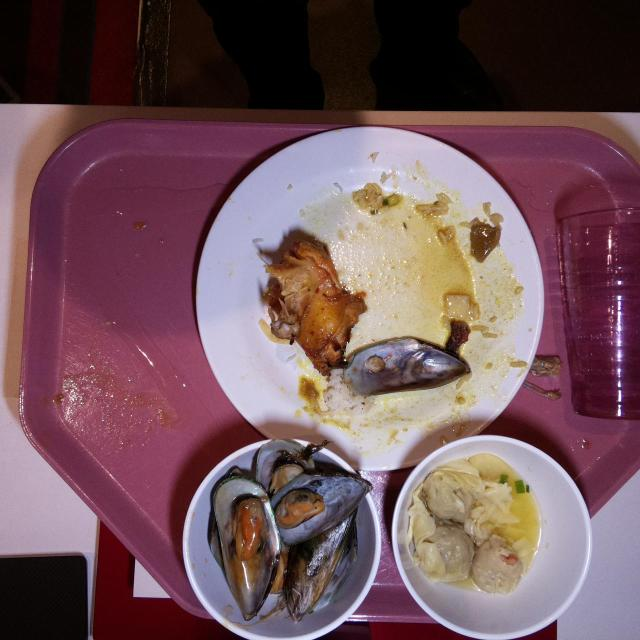Bone: (526, 381, 562, 400), (532, 355, 562, 377)
Meat: (258, 235, 369, 375)
Mussel: (231, 492, 267, 562), (273, 484, 327, 530), (251, 539, 287, 599), (270, 458, 310, 501)
Mussel-shell: (211, 439, 373, 625), (342, 334, 472, 398)
Noodle: (457, 458, 519, 546)
